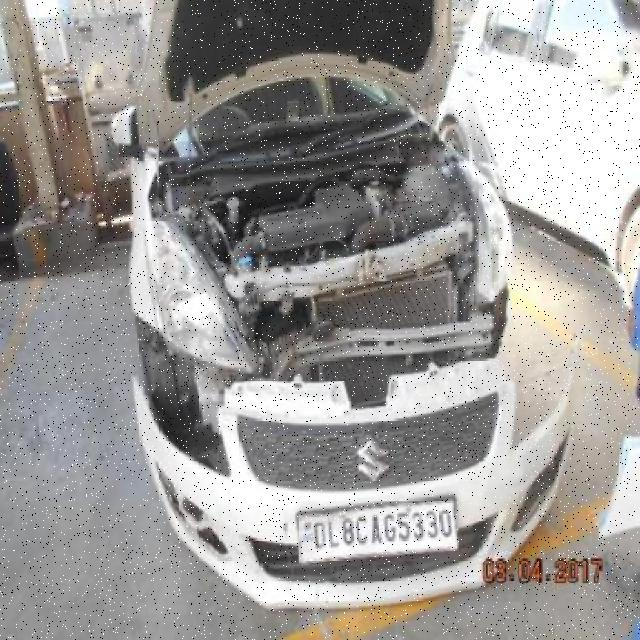damage: (134, 125, 507, 436)
